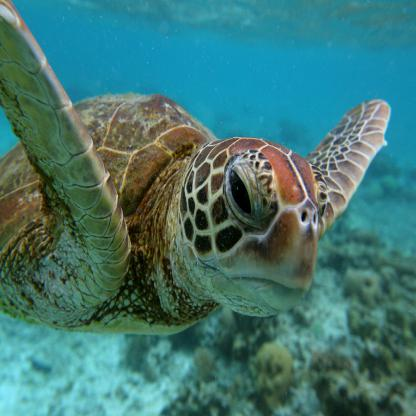turtle: (180, 130, 323, 322)
